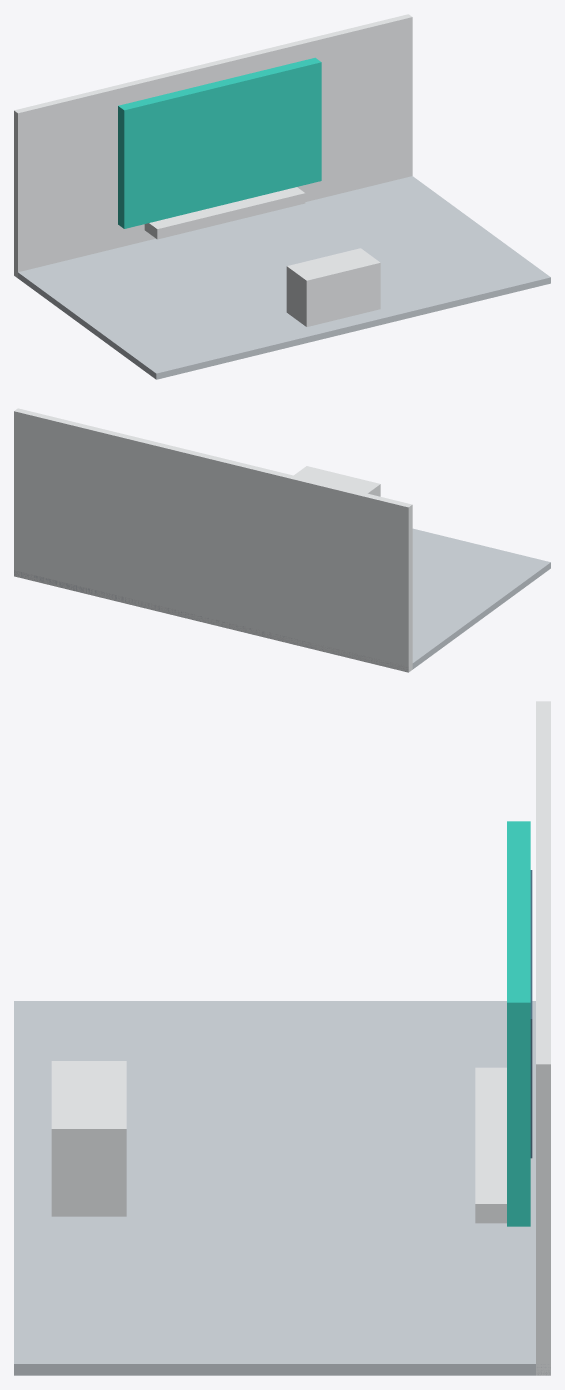
The picture shows the model from 3 angles, top to bottom: view 1: azimuth 30°, elevation 25°; view 2: azimuth 150°, elevation 25°; view 3: azimuth 270°, elevation 25°; orthographic projection. The views are drawn at different scales.
Visible parts, largest first — view 1: Exhibition Booth Concept; view 2: Exhibition Booth Concept; view 3: Exhibition Booth Concept.
Boxes of the visible parts, bbox=[...] form: Exhibition Booth Concept: bbox=[14, 14, 550, 379]; Exhibition Booth Concept: bbox=[14, 408, 550, 672]; Exhibition Booth Concept: bbox=[14, 701, 550, 1375].
Bounding box in the file's own units: 8 × 3.2 × 5.
